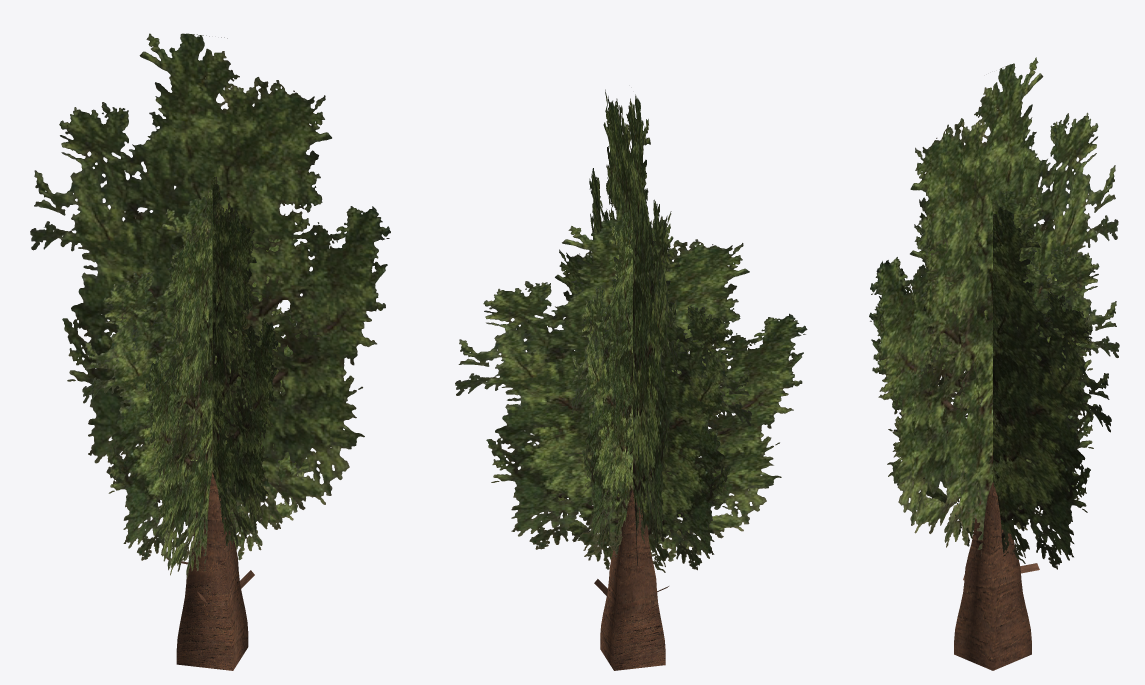
File: low_poly_forest_tree.glb
3 renders of one model, left to right at view 1: azimuth 30°, elevation 25°; view 2: azimuth 150°, elevation 25°; view 3: azimuth 270°, elevation 25°, orthographic. The views are drawn at different scales.
Parts seen in each view (by area): view 1: trunk_3; view 2: trunk_3; view 3: trunk_3.
Boxes of the visible parts, x1,y1,x2,y2 form: trunk_3: (30,33,390,670); trunk_3: (455,89,807,670); trunk_3: (869,57,1119,670).
Bounding box in the file's own units: 3.54 × 7.32 × 3.14.
3 materials, 3 textured.
